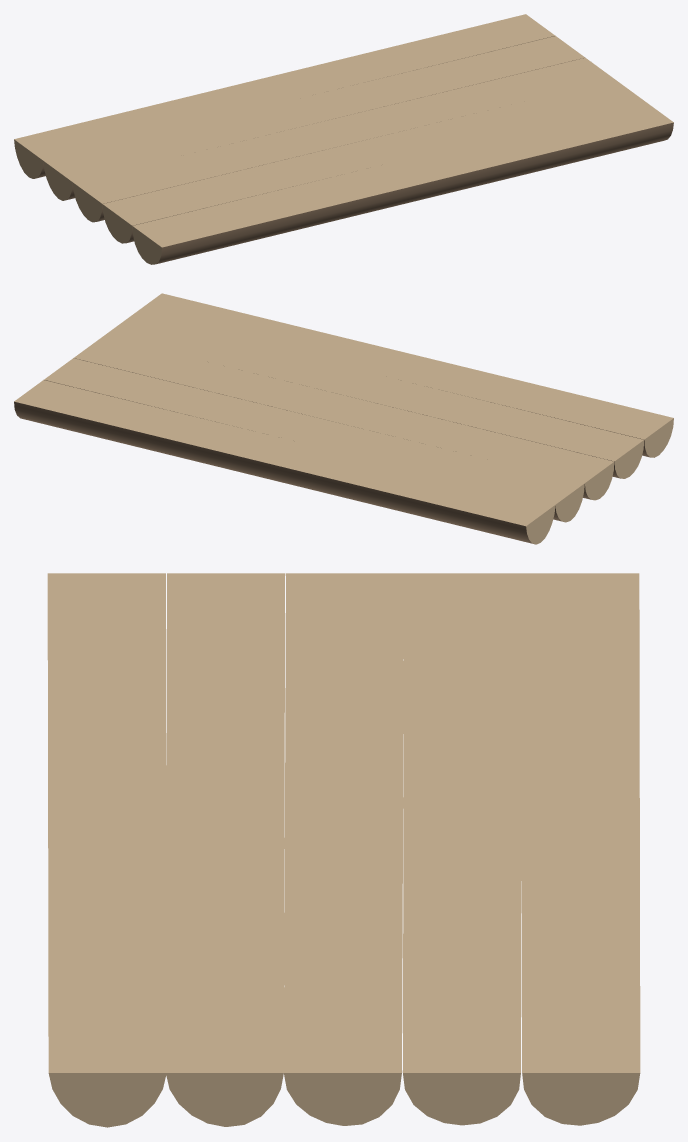
The model's file is log_floor_half.glb.
3 renders of one model, top to bottom at view 1: azimuth 30°, elevation 25°; view 2: azimuth 150°, elevation 25°; view 3: azimuth 270°, elevation 25°, orthographic. The views are drawn at different scales.
Visible parts, largest first — view 1: Floor; view 2: Floor; view 3: Floor.
Part boxes in pixels (<box>): Floor: <box>14,14,673,264</box>; Floor: <box>14,293,673,544</box>; Floor: <box>47,573,640,1127</box>.
Bounding box in the file's own units: 3 × 0.153 × 1.5.
